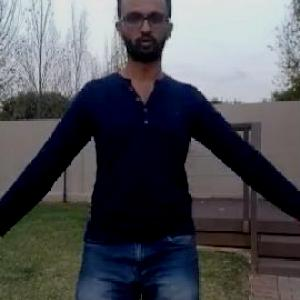land: (5, 4, 284, 299)
